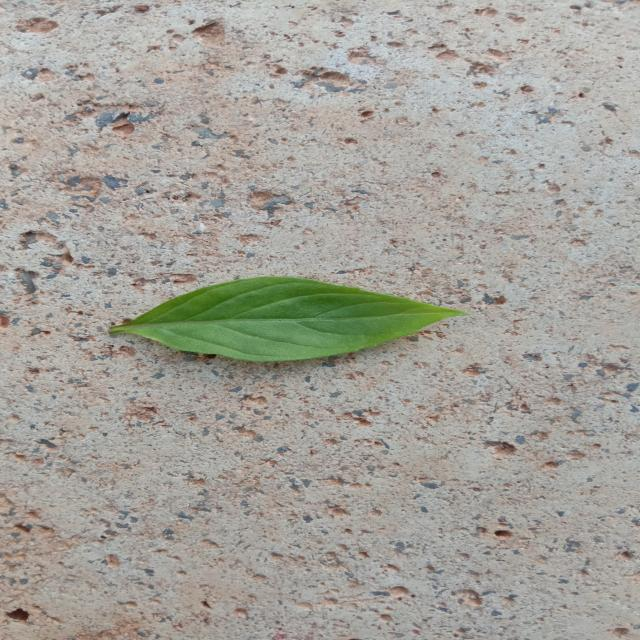kamakasturi: (108, 276, 466, 361)
